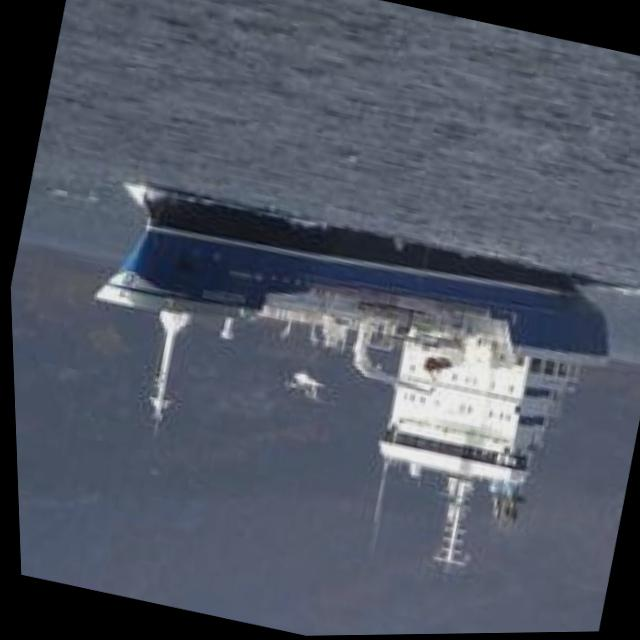ship2: (91, 180, 608, 571)
